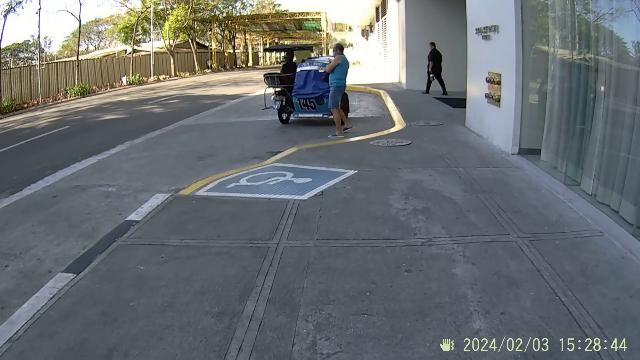tree: (160, 26, 182, 75)
tricycle: (262, 41, 332, 126)
